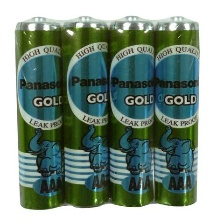battery: (12, 14, 67, 214), (55, 14, 111, 210), (150, 13, 202, 207), (105, 13, 156, 210)
